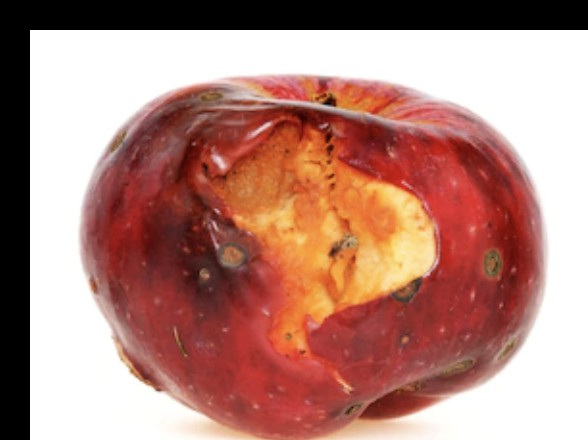rotten_apple: (82, 74, 549, 440)
